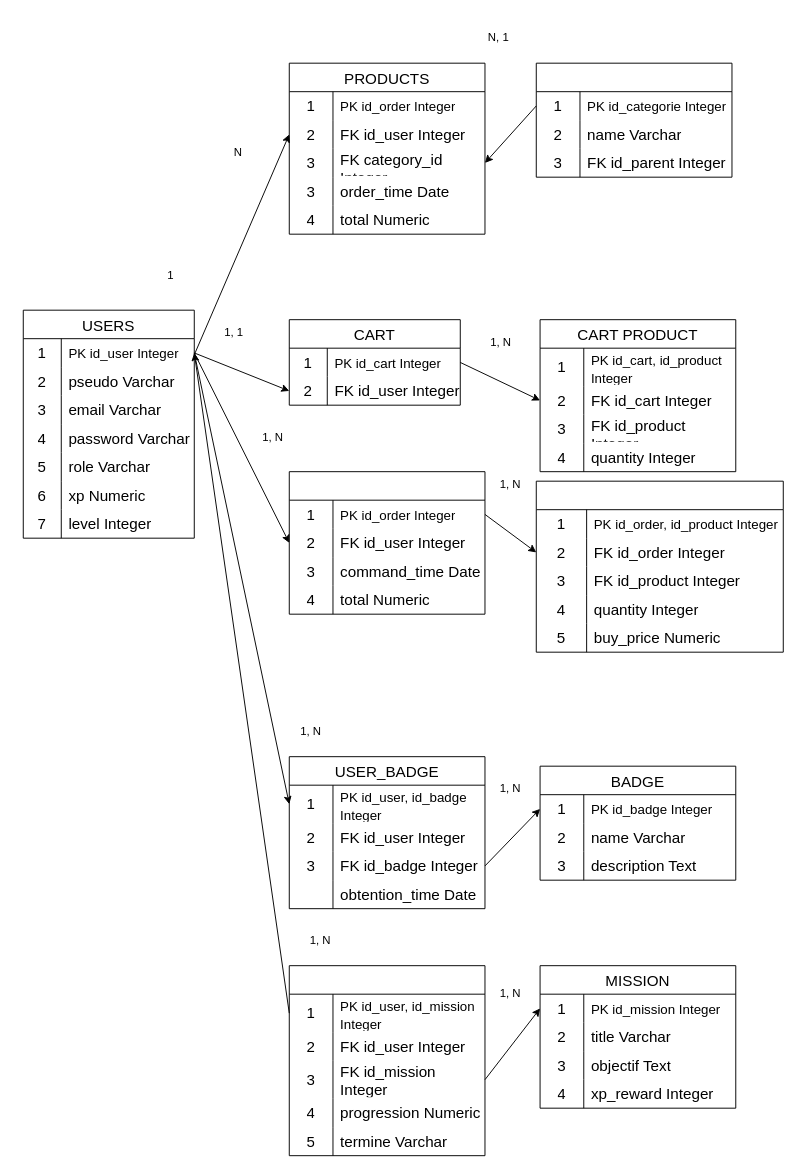
Image size: 800x1172. Some labels were removed from this diagram. Each missing label, with the box of its shape:
CATEGORIES: (535, 62, 732, 177)
ORDER_ITEMS: (535, 480, 783, 652)
ORDERS: (288, 471, 485, 614)
USER_MISSION: (288, 965, 485, 1156)
